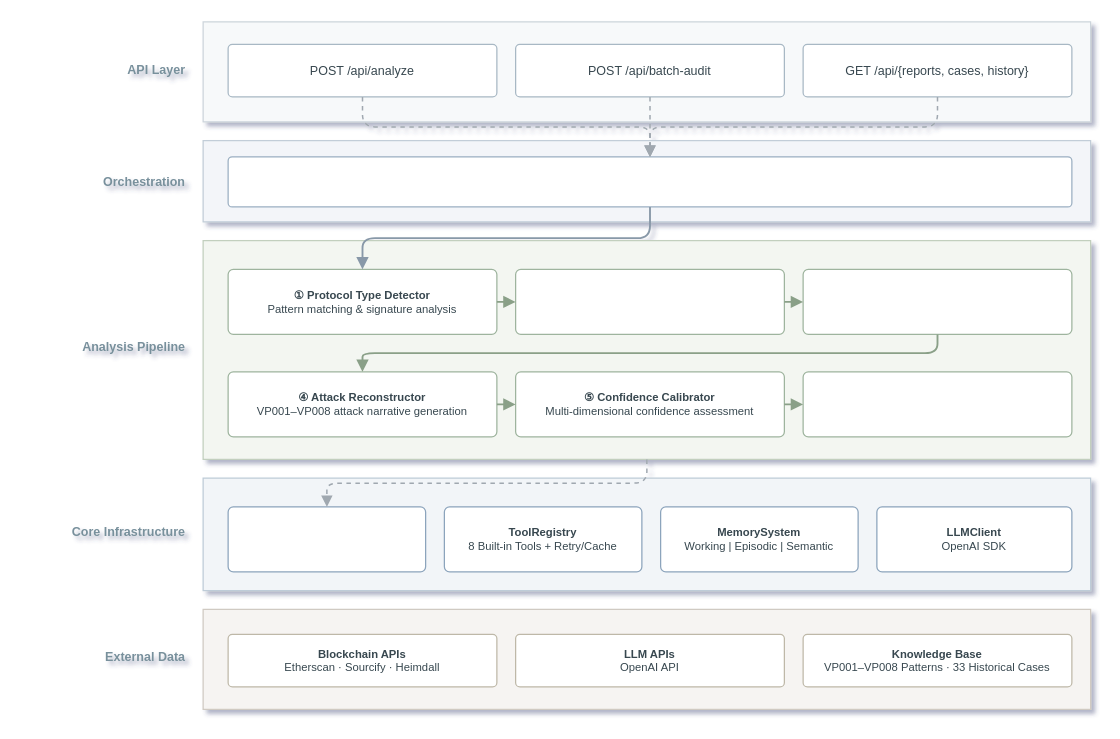
This 1120x739 diagram has some shape labels left out. Here are the shapes that lost their labels. From the top down, the centre of each, then its label:
At [649,181]: "AuditOrchestrator — Multi-Agent Scheduling, Coordination & Timeout Management".
At [649,301]: "② Context Manager Protocol-specific analysis context".
At [937,301]: "③ Vulnerability Analyzer Multi-iteration OTAU-based analysis".
At [937,404]: "⑥ Report Generator Structured audit report with attack narratives".
At [326,539]: "BaseAgent Observe-Think-Act-Update Loop".
